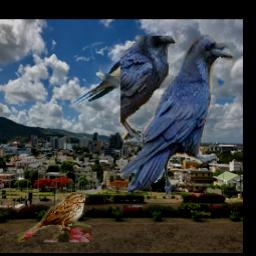Crow: (120, 37, 235, 197)
Sparrow: (17, 191, 91, 243)
Swallow: (73, 53, 140, 105)
